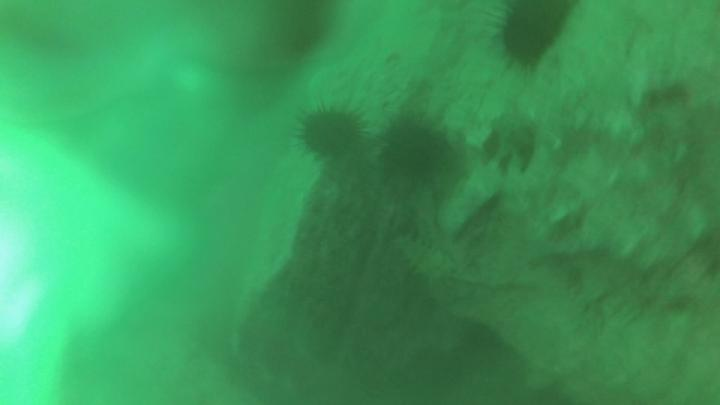echinus: (502, 2, 571, 65), (382, 122, 439, 172), (303, 111, 362, 155)
holothurian: (395, 235, 459, 288)
